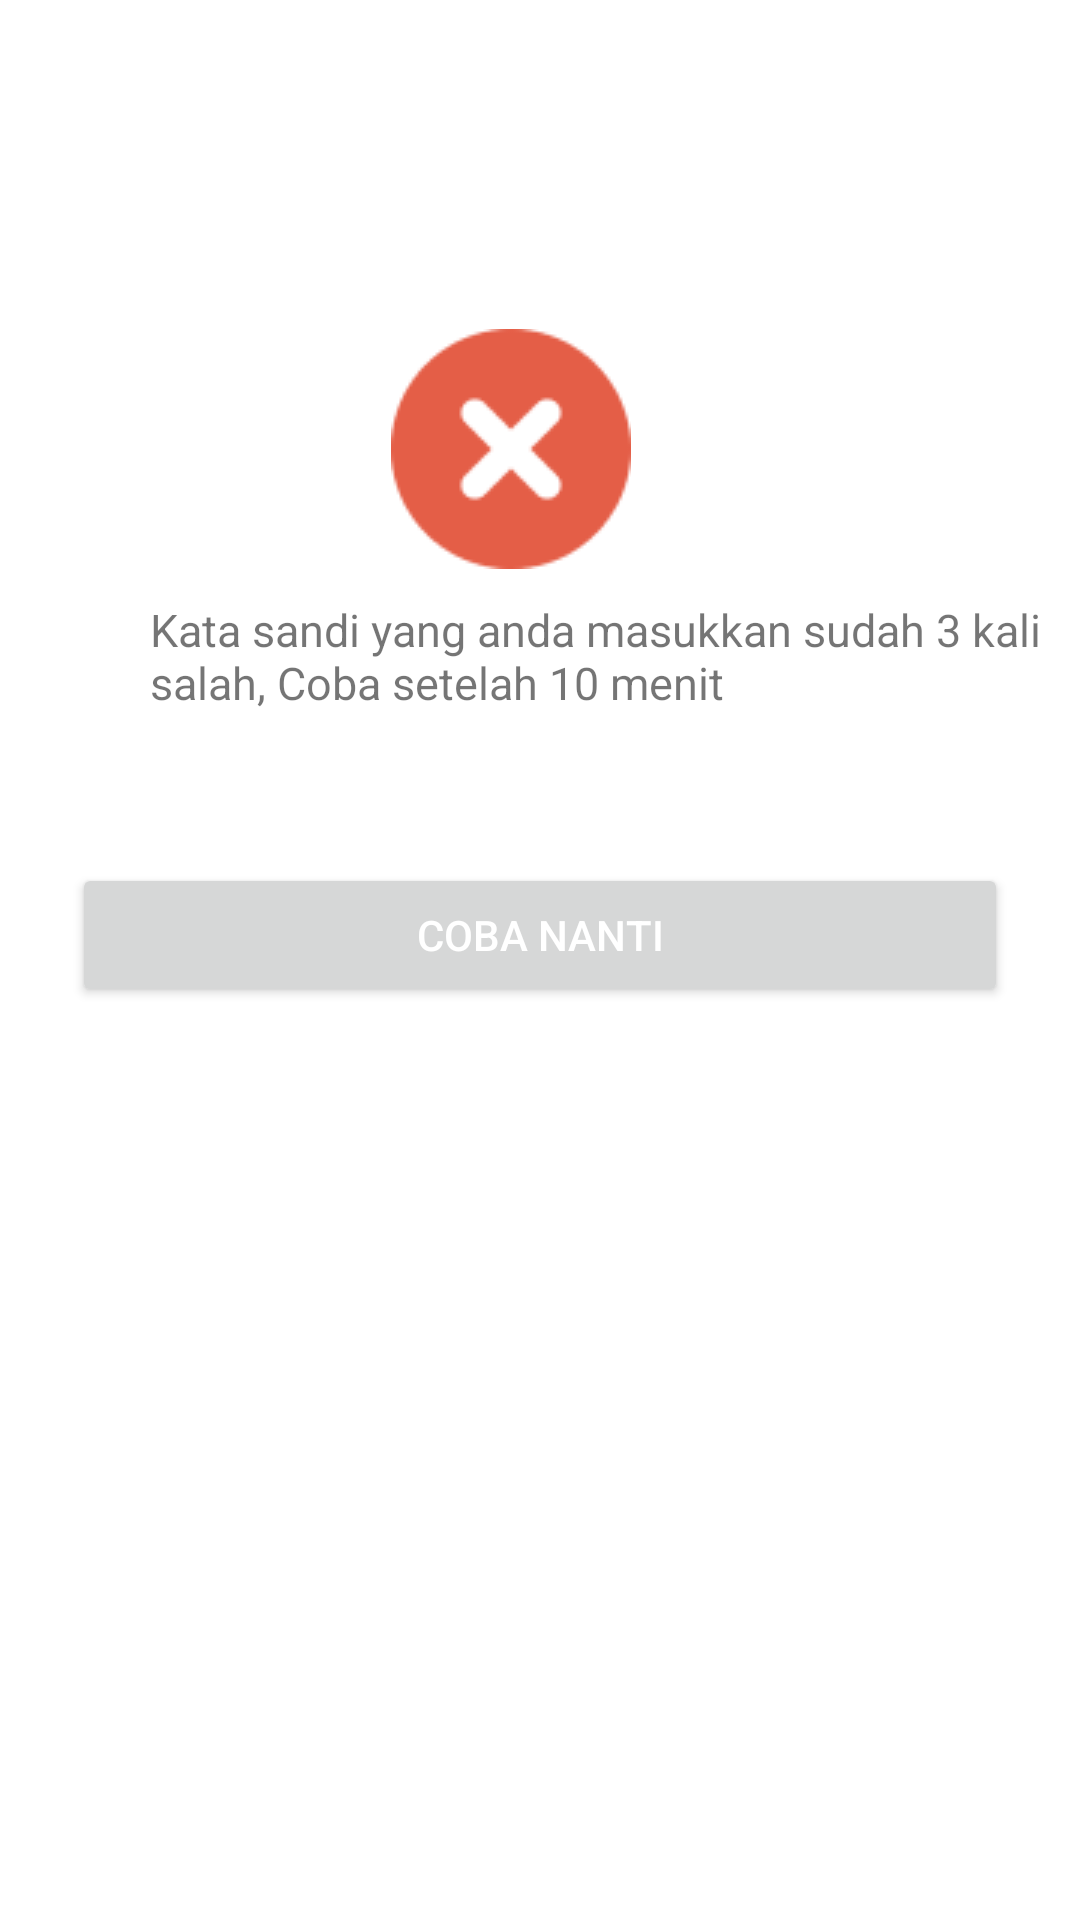

Icons on this 1080x1920 Android screen, each with its box as (x1, y1, x2, y2):
crosss: (391, 329, 631, 569)
